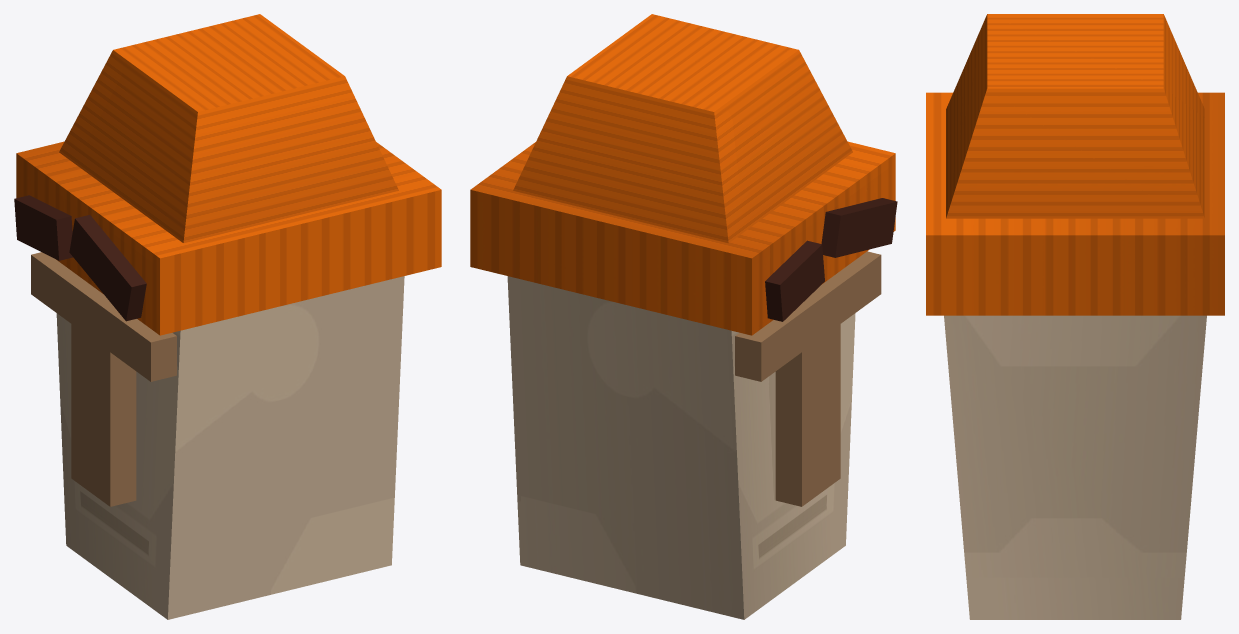
The model's file is head.obj.
3 views of the same model, side by side, from view 1: azimuth 30°, elevation 25°; view 2: azimuth 150°, elevation 25°; view 3: azimuth 270°, elevation 25° (orthographic). The views are drawn at different scales.
Visible parts, largest first — view 1: Cube, Cube.003, Cube.004, Cube.002, Cube.001, Cube.005, Cube.006; view 2: Cube, Cube.003, Cube.004, Cube.002, Cube.001, Cube.005, Cube.006; view 3: Cube, Cube.003, Cube.004.
Boxes of the visible parts, x1,y1,x2,y2 form: Cube: (56,276,404,619); Cube.003: (59,14,398,243); Cube.004: (16,141,441,335); Cube.002: (71,304,136,506); Cube.001: (31,252,176,381); Cube.005: (69,215,146,321); Cube.006: (14,195,73,260); Cube: (507,276,855,619); Cube.003: (513,14,852,243); Cube.004: (470,141,895,335); Cube.002: (775,307,840,506); Cube.001: (735,251,881,381); Cube.005: (821,198,897,257); Cube.006: (765,240,824,321); Cube: (944,315,1206,619); Cube.003: (946,14,1204,218); Cube.004: (926,92,1224,315).
Bounding box in the file's own units: 2.65 × 4.2 × 2.22.
